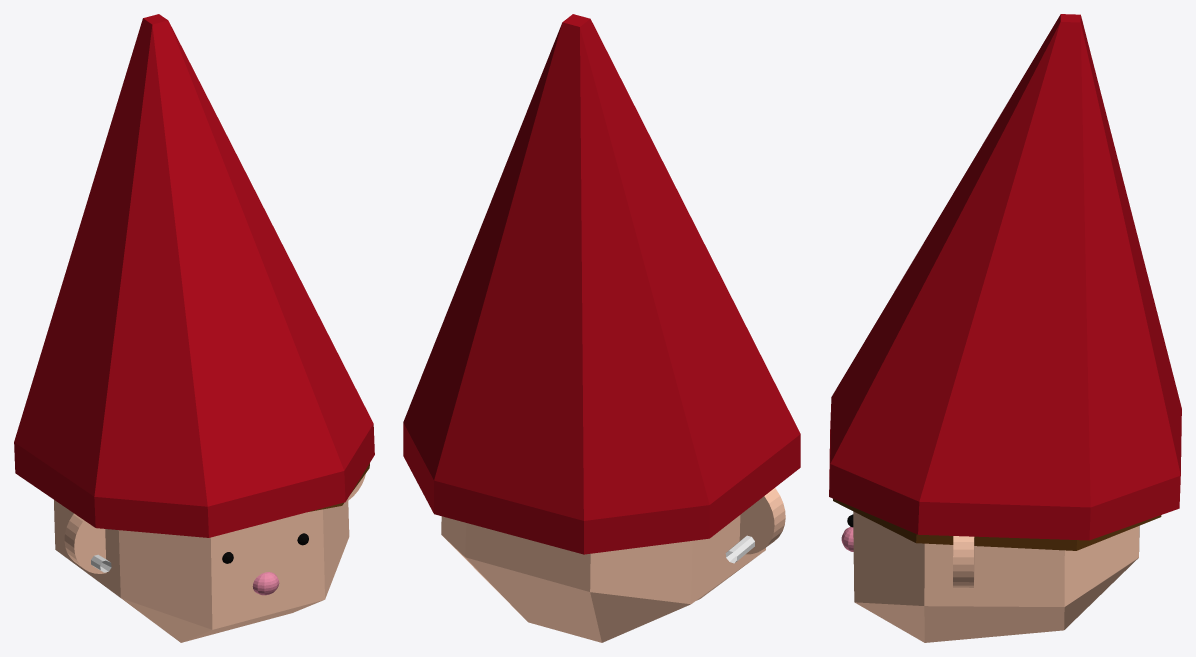
3 views of the same model, side by side, from view 1: azimuth 30°, elevation 25°; view 2: azimuth 150°, elevation 25°; view 3: azimuth 270°, elevation 25° (orthographic). The views are drawn at different scales.
Parts seen in each view (by area): view 1: hat, head, earR; view 2: hat, head, earR; view 3: hat, head, hair, earL.
Boxes of the visible parts, x1=… form: hat: x1=14, y1=14, x2=374, y2=537; head: x1=54, y1=498, x2=349, y2=642; earR: x1=64, y1=513, x2=106, y2=573; hat: x1=403, y1=14, x2=800, y2=554; head: x1=441, y1=515, x2=765, y2=642; earR: x1=739, y1=488, x2=785, y2=554; hat: x1=829, y1=14, x2=1181, y2=540; head: x1=853, y1=511, x2=1139, y2=642; hair: x1=833, y1=498, x2=1161, y2=550; earL: x1=953, y1=536, x2=974, y2=588.
Size of the model in its own units: 0.462 by 0.855 by 0.4605.
